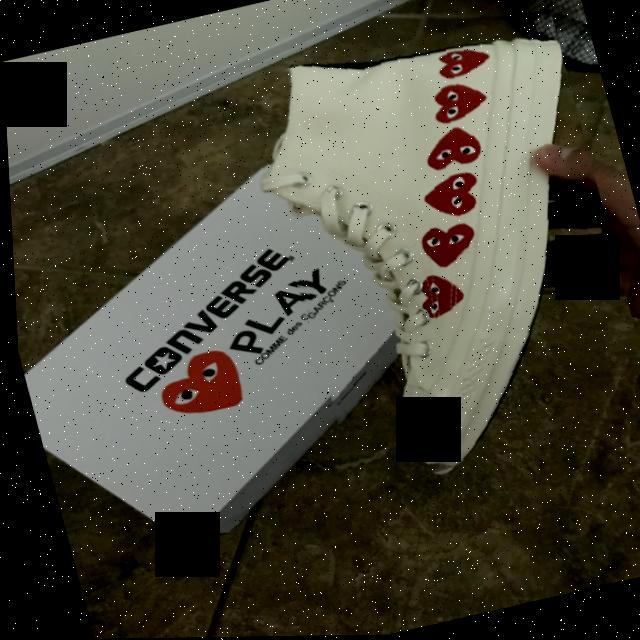shoe: (233, 9, 640, 499)
